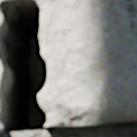brick: (0, 0, 136, 126), (0, 61, 4, 116), (0, 120, 3, 130)
crack: (0, 2, 51, 135)
